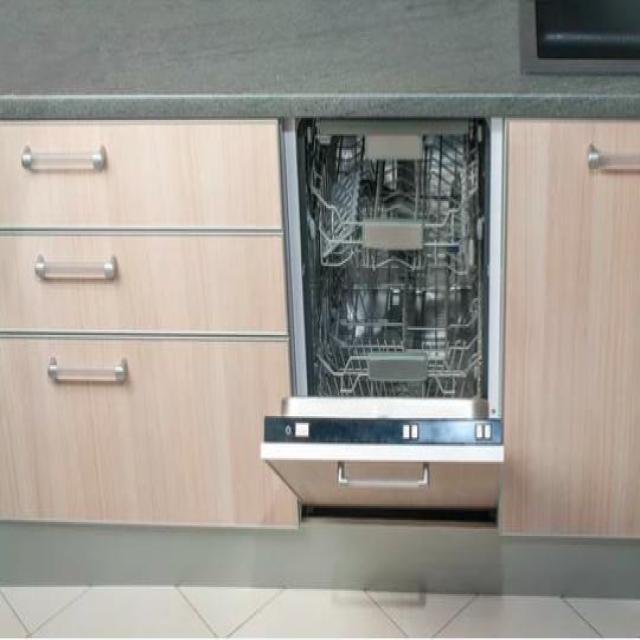dishwasher: (255, 102, 511, 584)
